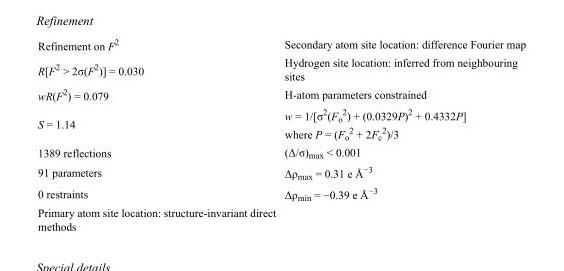table: (37, 36, 525, 232)
table column: (279, 36, 525, 232), (37, 36, 279, 232)
table row: (37, 104, 525, 143), (37, 53, 525, 84), (37, 203, 525, 232), (37, 161, 525, 182), (37, 182, 525, 203), (37, 84, 525, 104), (37, 143, 525, 161), (37, 36, 525, 53)
